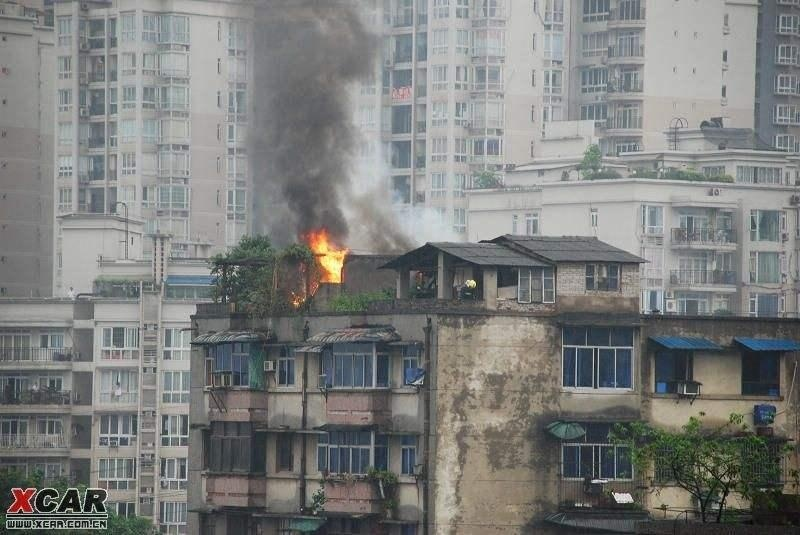fire: (302, 226, 347, 289)
